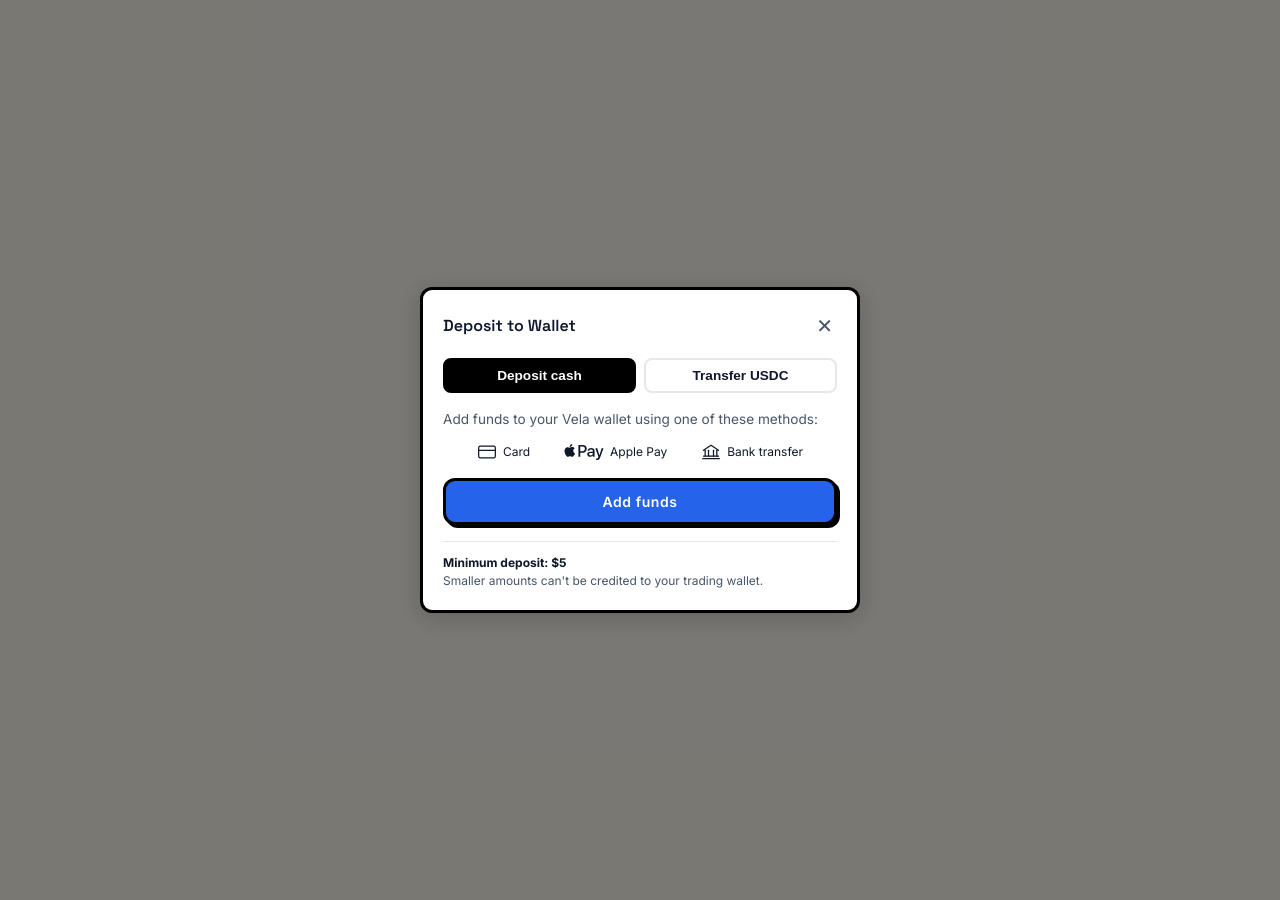
Test: DepositSheet › shows "Connecting to payment provider..." while pending
The width and height of the screenshot is (1280, 900).
Click the button "Add funds" at (640, 501), box [443, 478, 837, 525]
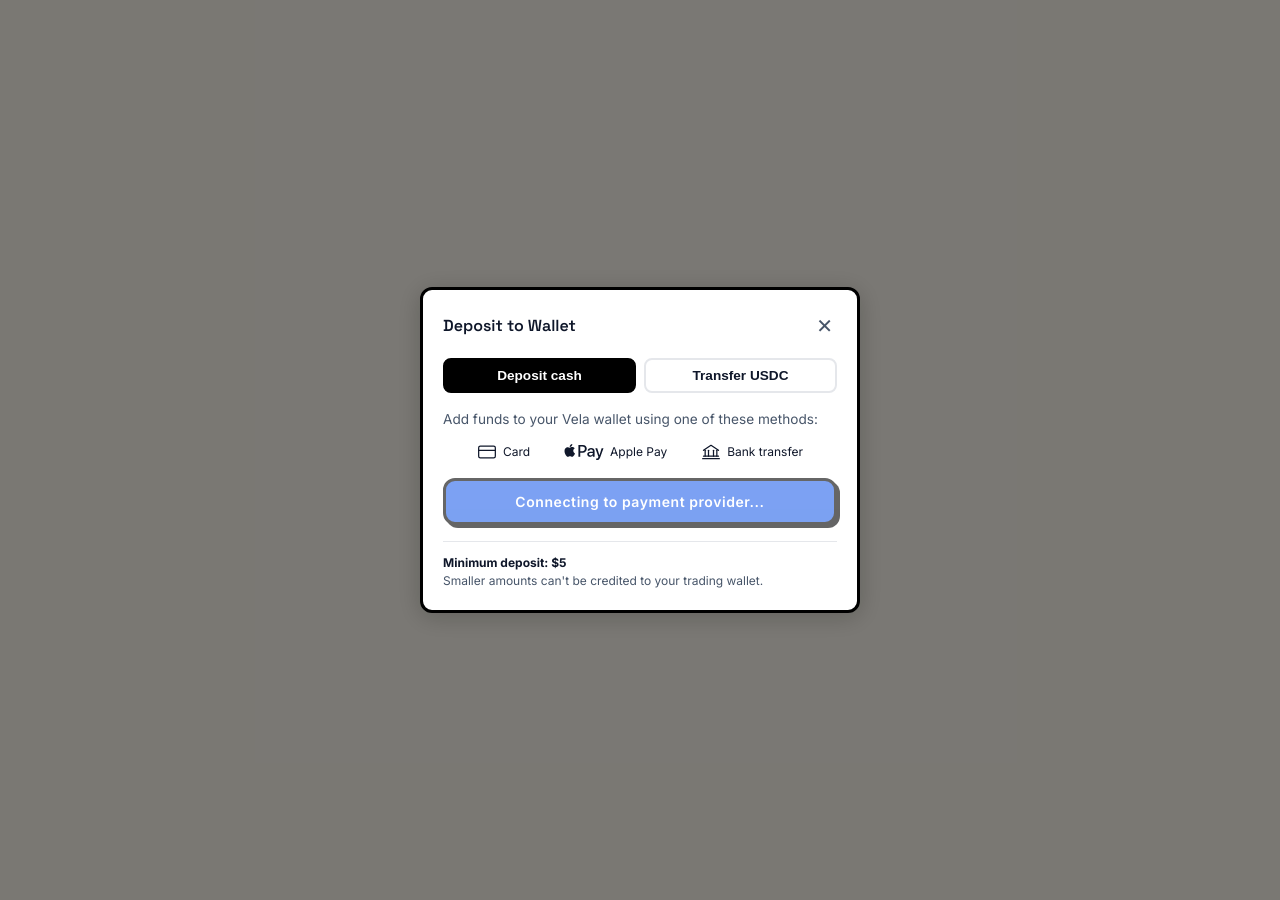
Result: the button "Connecting to payment provider..." is shown at [443, 478, 837, 525]
